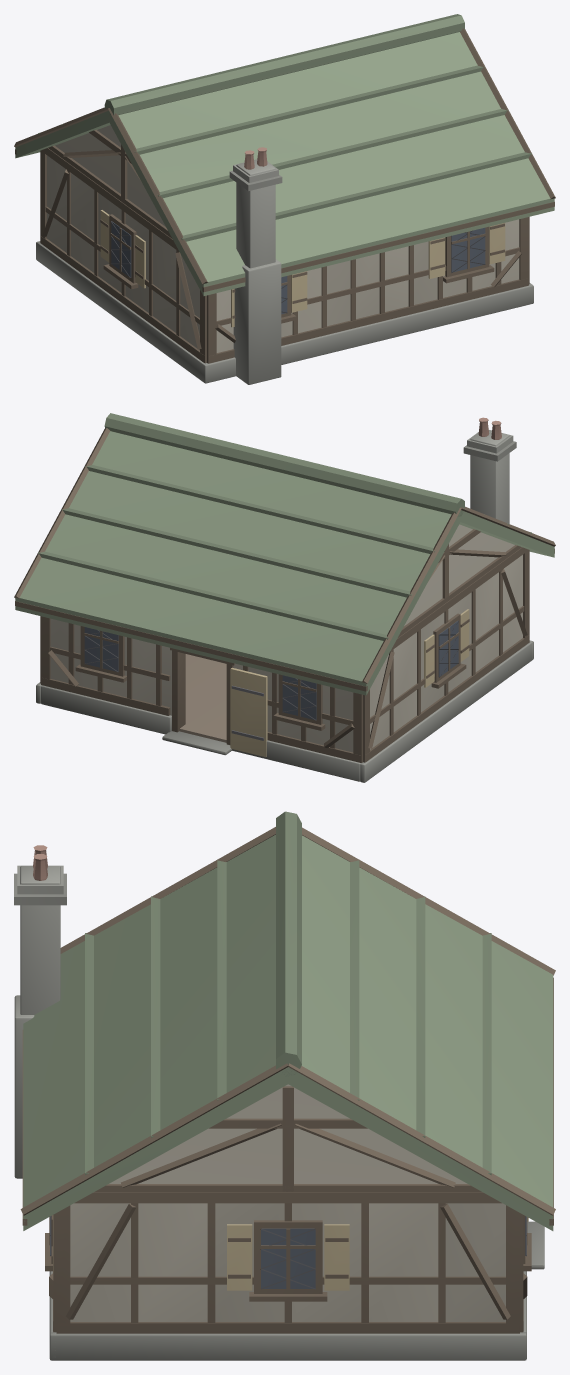
Rendered from open_house_green.gltf.
3 renders of one model, top to bottom at view 1: azimuth 30°, elevation 25°; view 2: azimuth 150°, elevation 25°; view 3: azimuth 270°, elevation 25°, orthographic. The views are drawn at different scales.
Parts seen in each view (by area): view 1: Body; view 2: Body; view 3: Body.
Part boxes in pixels (box(x1,y1,x2,y2)): Body: box(14, 14, 555, 384); Body: box(14, 413, 555, 782); Body: box(14, 811, 555, 1360).
Bounding box in the file's own units: 9.97 × 6.05 × 9.4.
